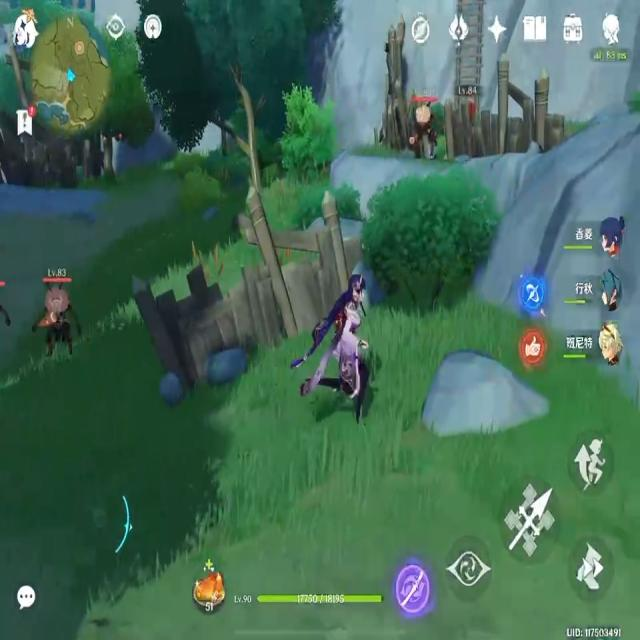genshin-hilichurls: (34, 283, 84, 362), (410, 97, 440, 157)
